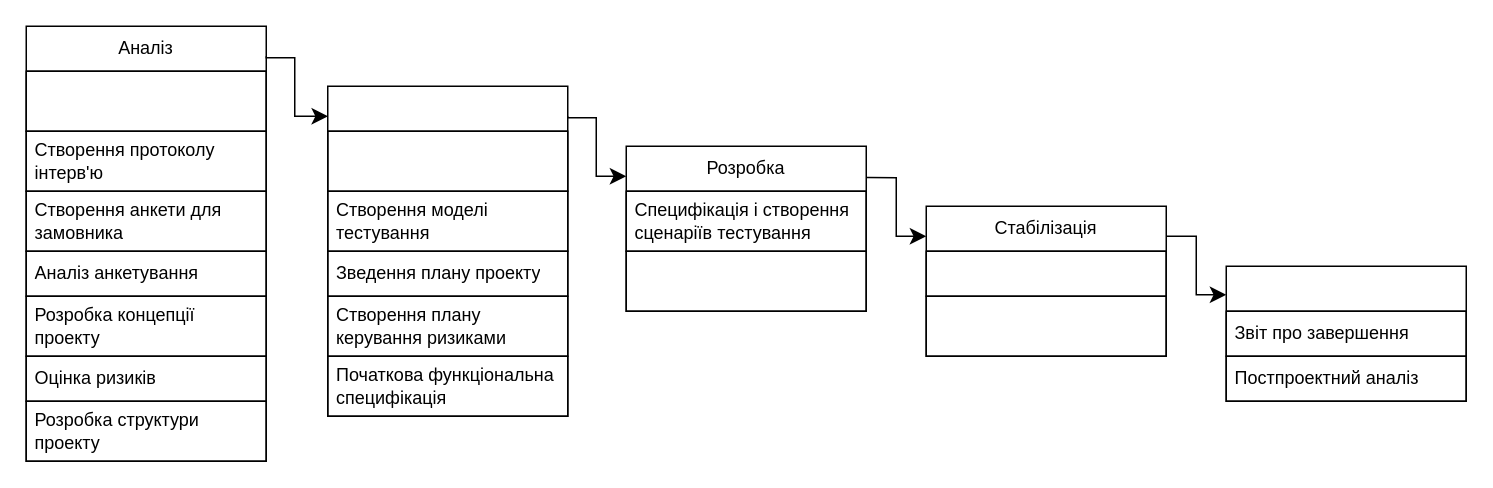
This 1493x488 diagram has some shape labels left out. The shapes that lost their labels are listed below. From the top down, each one's box as (x1, y1, x2, y2) in pixels, then its label:
(25, 70, 266, 131): Проведення інтерв'ю з замовником
(326, 130, 568, 191): Створення моделі розробки
(326, 85, 568, 416): Планування
(625, 250, 866, 311): Кінцева функціональна специфікація
(925, 250, 1166, 296): Пілотне впровадження
(925, 295, 1166, 356): Звіт з результатів тестування
(1225, 265, 1466, 401): Провадження
